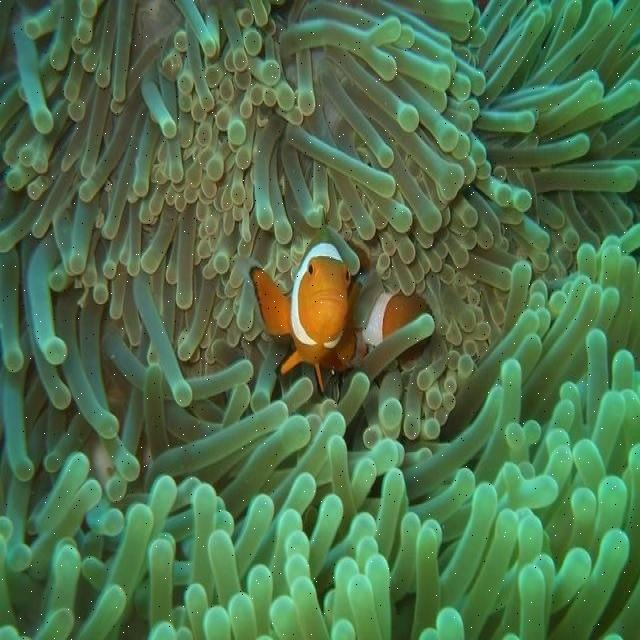fish: (253, 228, 434, 395)
